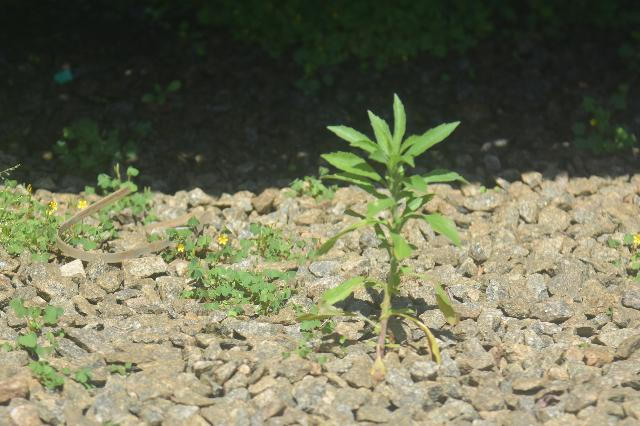MalezaMontesDelPlata: (321, 89, 466, 380), (157, 210, 303, 324), (1, 295, 97, 396), (2, 162, 58, 266)
